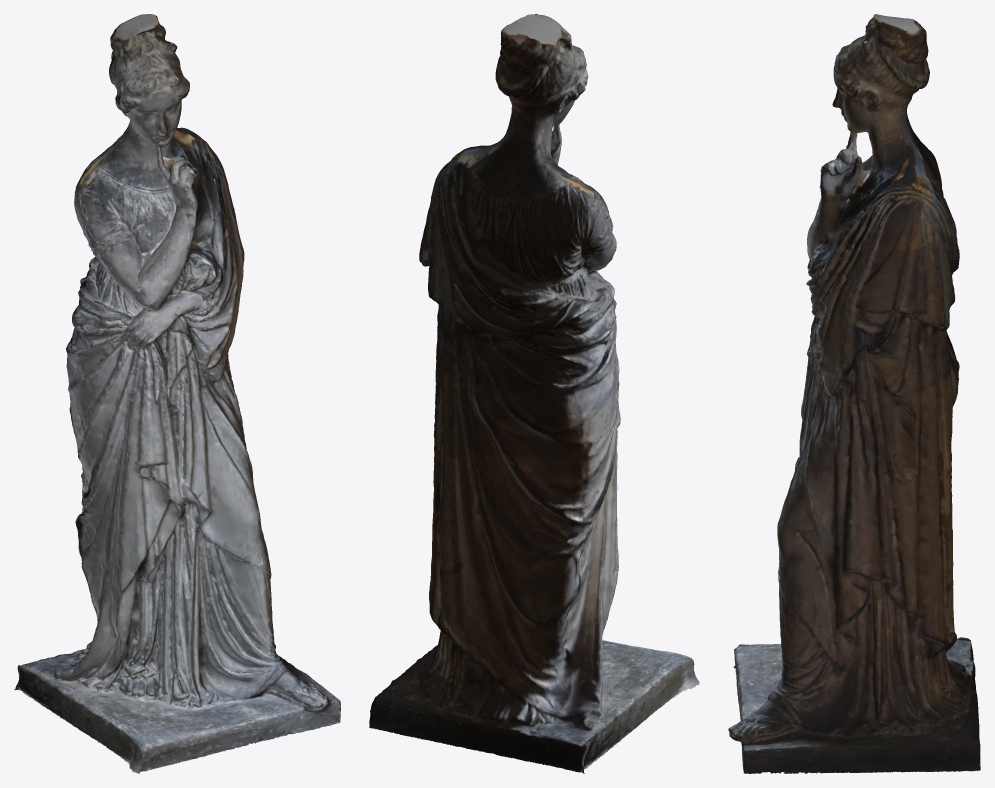
Rendered from preview.glb.
3 renders of one model, left to right at view 1: azimuth 30°, elevation 25°; view 2: azimuth 150°, elevation 25°; view 3: azimuth 270°, elevation 25°, orthographic. The views are drawn at different scales.
Visible parts, largest first — view 1: Object_2; view 2: Object_2; view 3: Object_2.
Part boxes in pixels (x1=…): Object_2: x1=14, y1=14, x2=340, y2=773; Object_2: x1=369, y1=14, x2=699, y2=773; Object_2: x1=728, y1=14, x2=980, y2=773.
Size of the model in its own units: 6.27 by 19.01 by 6.25.
Materials: 1 (1 with a texture image).
